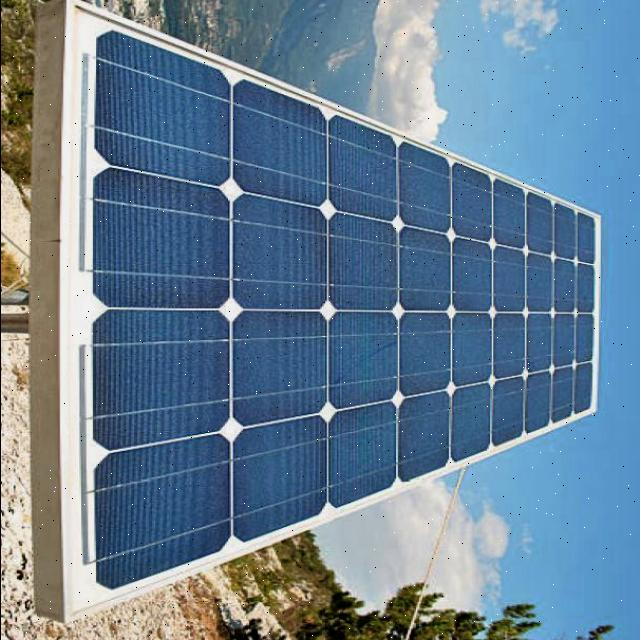Normal Solar Panel: (62, 0, 600, 621)
